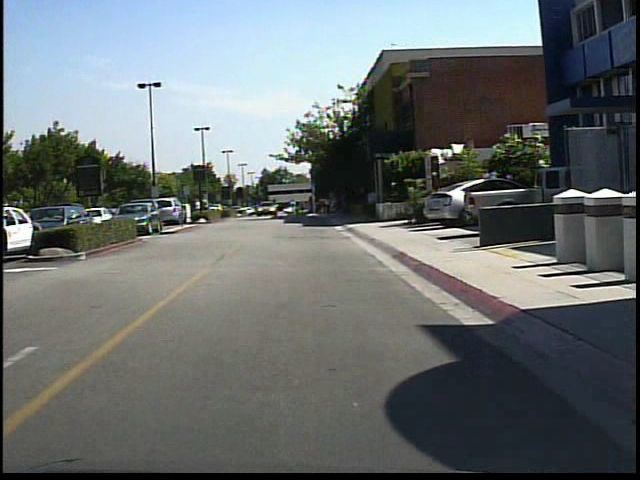person: (191, 191, 208, 219), (288, 195, 303, 222)
